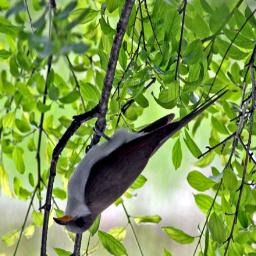Cuckoo: (51, 84, 227, 234)
